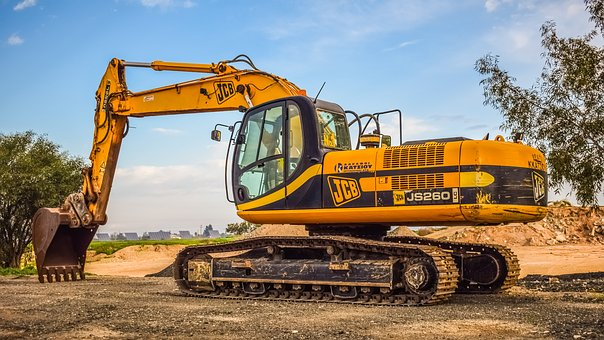excavator: (25, 54, 555, 308)
